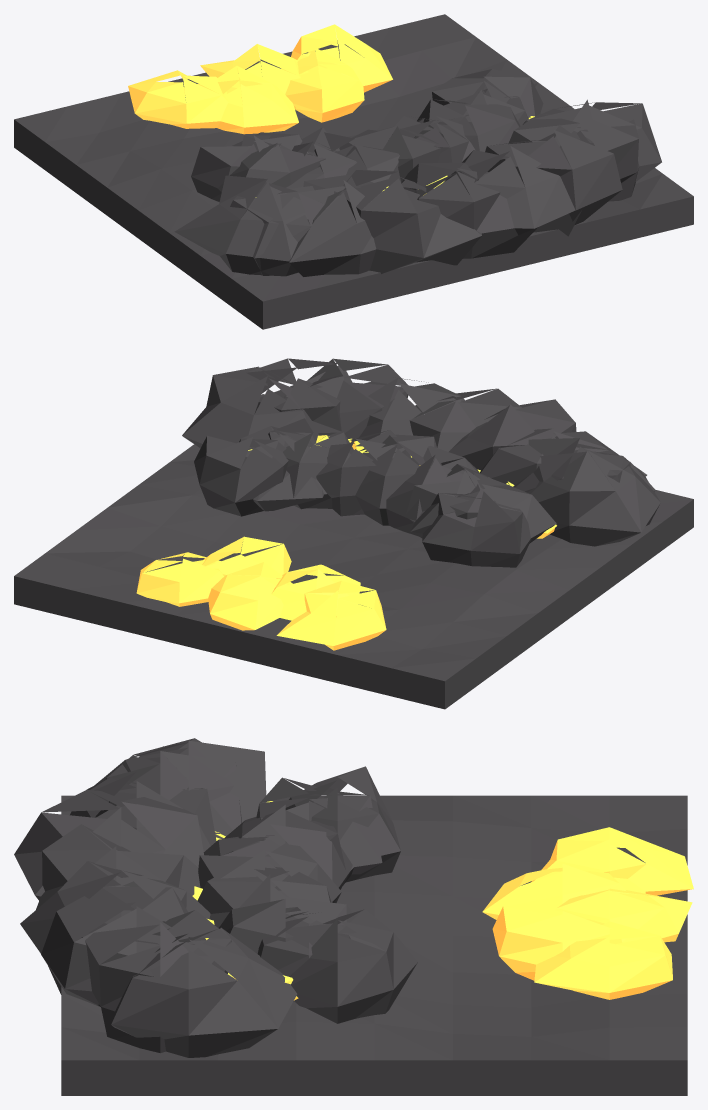
The model's file is volcano-and-lava-fields-volcano-and-lava-fields-lava-f-92f8c681__37439.glb.
3 renders of one model, top to bottom at view 1: azimuth 30°, elevation 25°; view 2: azimuth 150°, elevation 25°; view 3: azimuth 270°, elevation 25°, orthographic. The views are drawn at different scales.
Parts seen in each view (by area): view 1: volcano-and-lava-fields-lava-flow-front-lobe; view 2: volcano-and-lava-fields-lava-flow-front-lobe; view 3: volcano-and-lava-fields-lava-flow-front-lobe.
Part boxes in pixels (x1=…): volcano-and-lava-fields-lava-flow-front-lobe: x1=14, y1=14, x2=693, y2=329; volcano-and-lava-fields-lava-flow-front-lobe: x1=14, y1=358, x2=693, y2=709; volcano-and-lava-fields-lava-flow-front-lobe: x1=14, y1=738, x2=693, y2=1095.
Bounding box in the file's own units: 4.22 × 0.9054 × 4.34.
